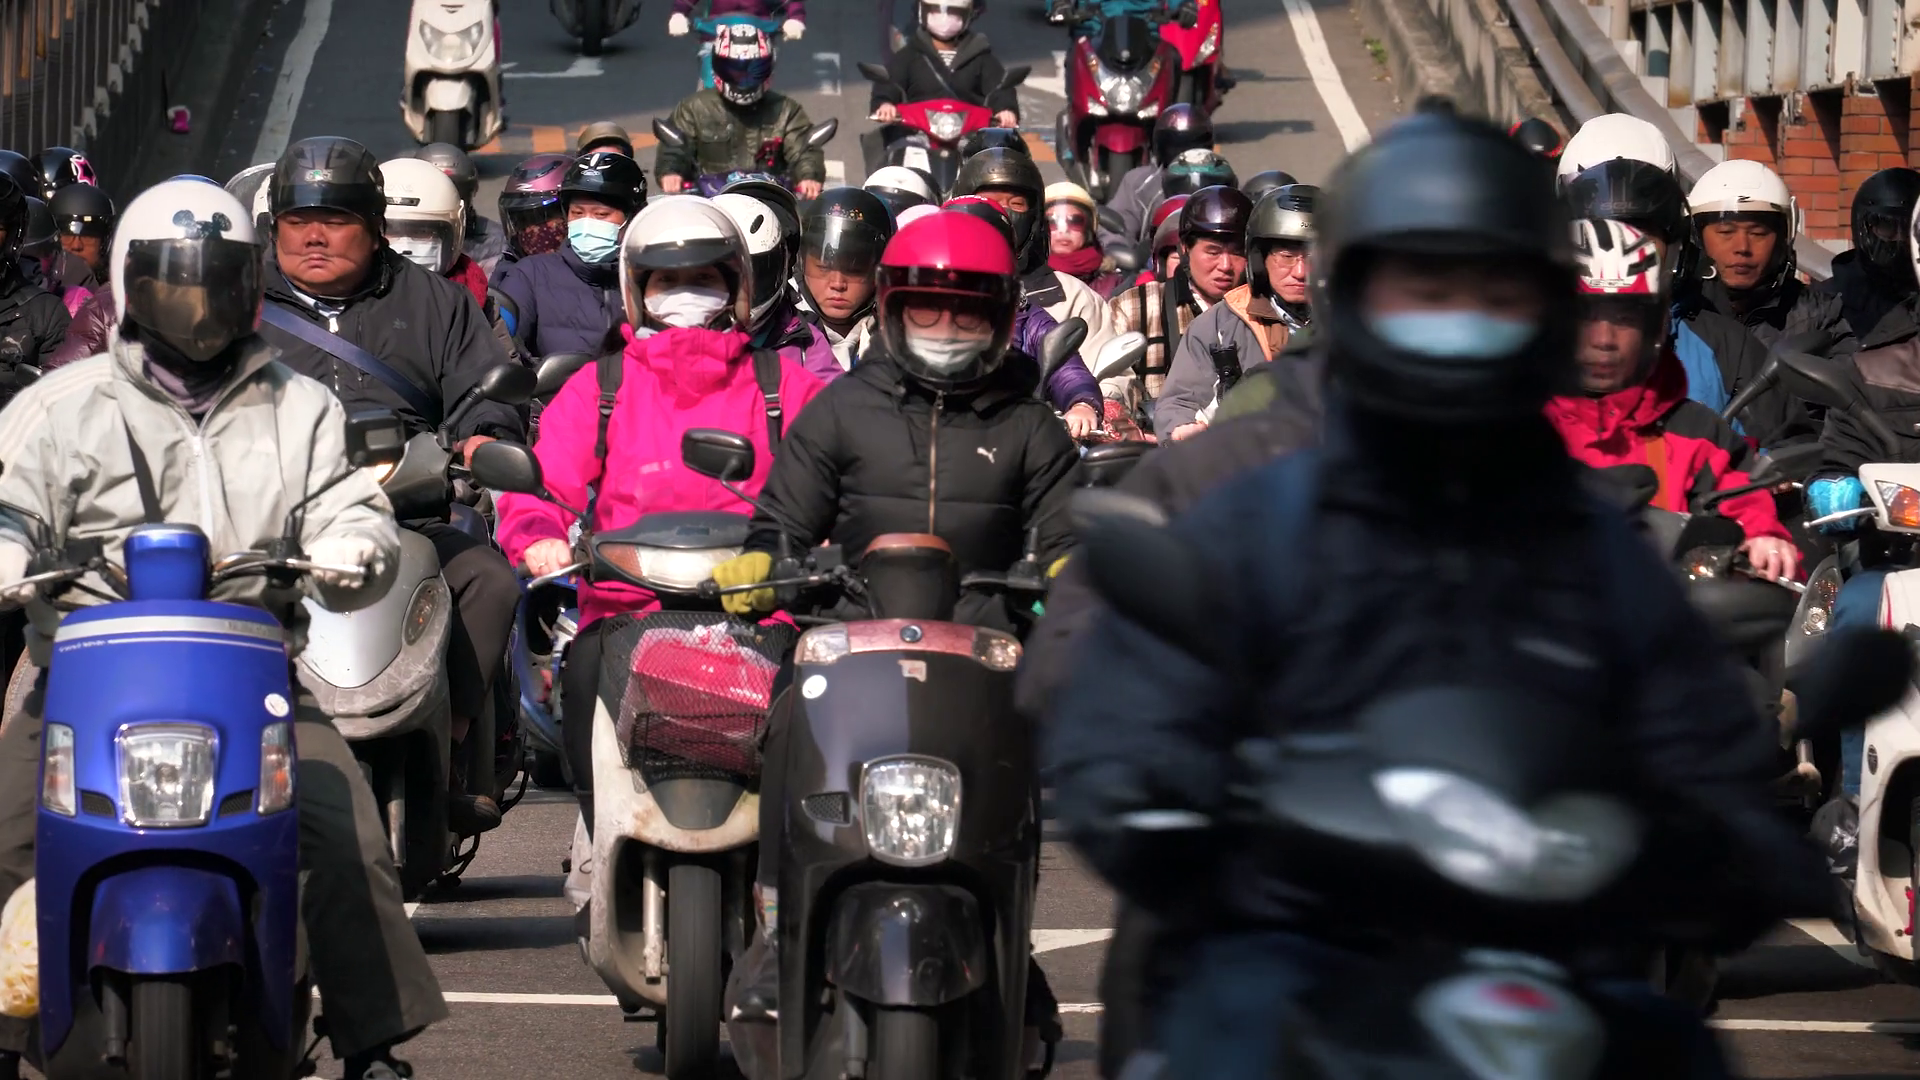helmet: (1309, 131, 1597, 285), (109, 186, 278, 365), (876, 210, 1018, 385), (624, 178, 740, 331), (1691, 138, 1808, 225), (560, 146, 629, 258), (708, 9, 775, 103), (916, 1, 982, 45)
